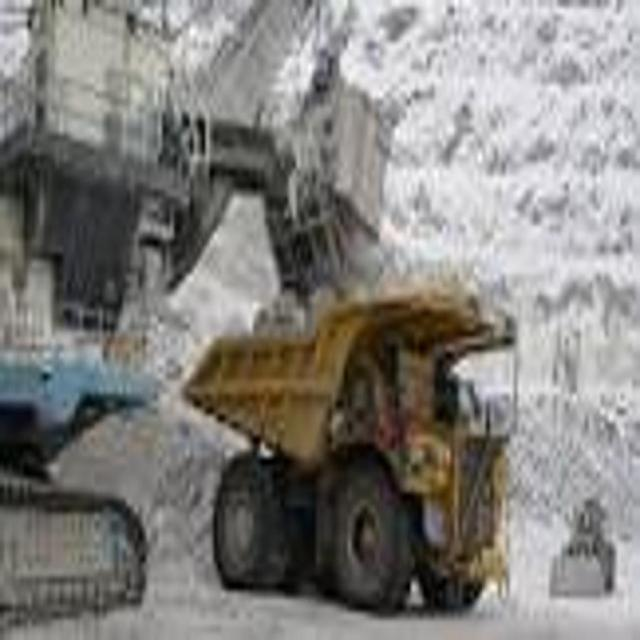dump_truck: (183, 278, 524, 622)
